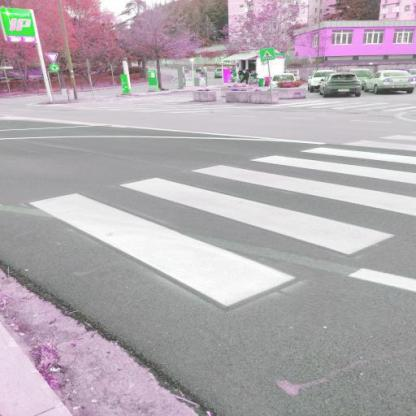crosswalk: (21, 172, 415, 316)
